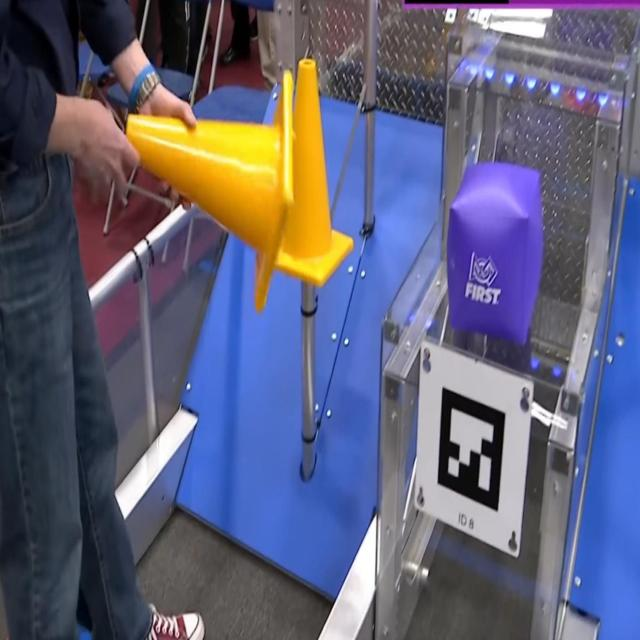frc_cone: (127, 71, 294, 305), (259, 60, 356, 290)
frc_cube: (448, 163, 544, 344)
